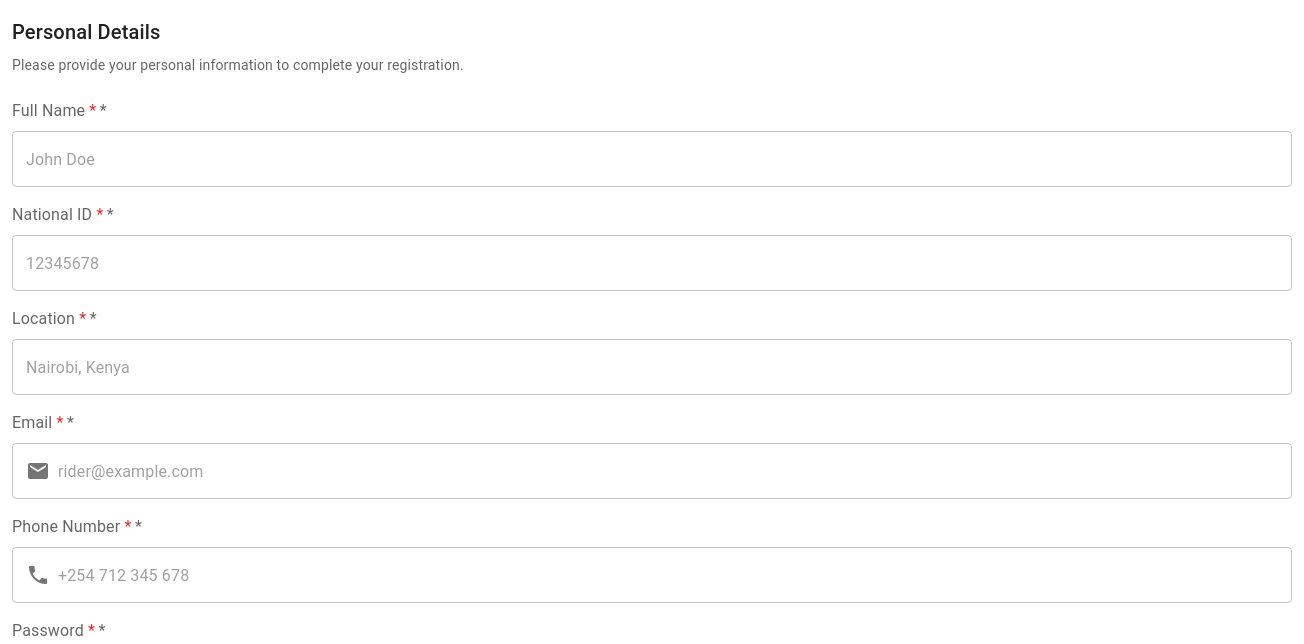
PersonalDetailsStep › Required fields validation › should show validation error when nationalId is empty and touched
Click the field named "National ID". click: (652, 263)
box: [12,235,1292,291]
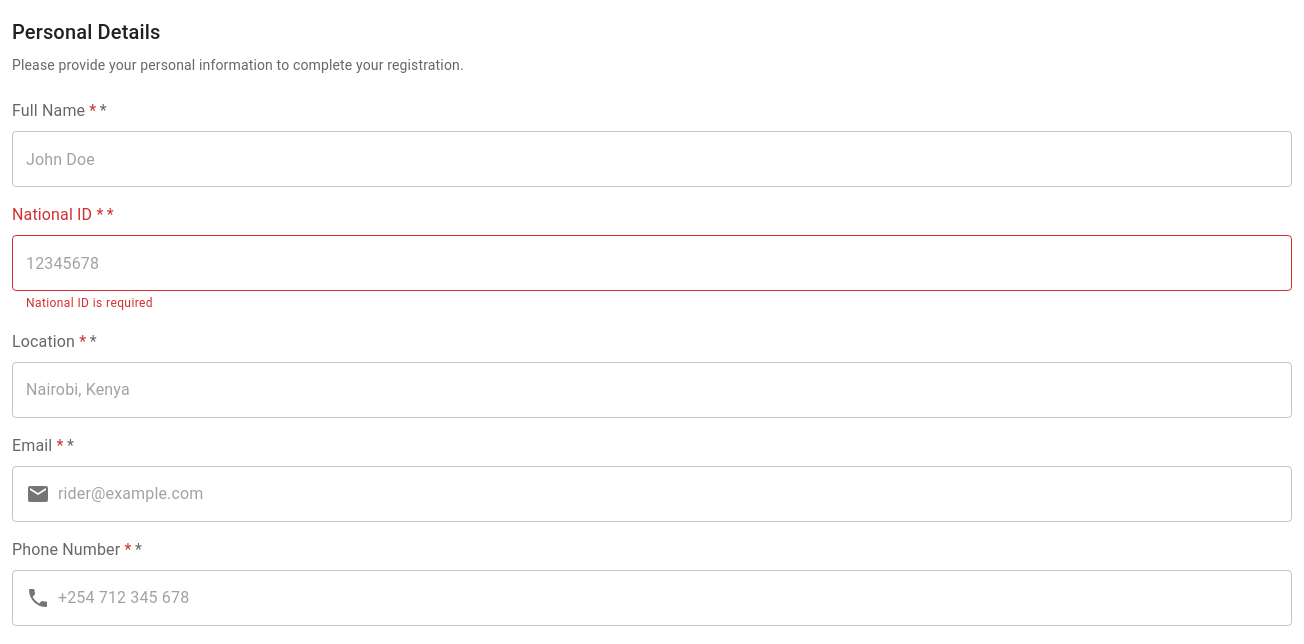
Now the text "National ID is required" is shown, box [26,296,153,310]
